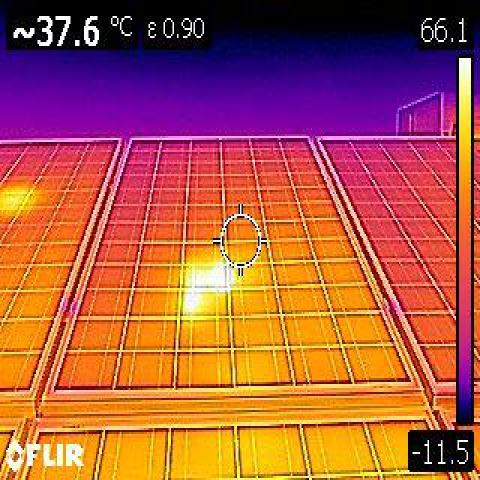fault: (184, 292, 226, 318), (182, 268, 222, 288), (2, 189, 26, 210)
